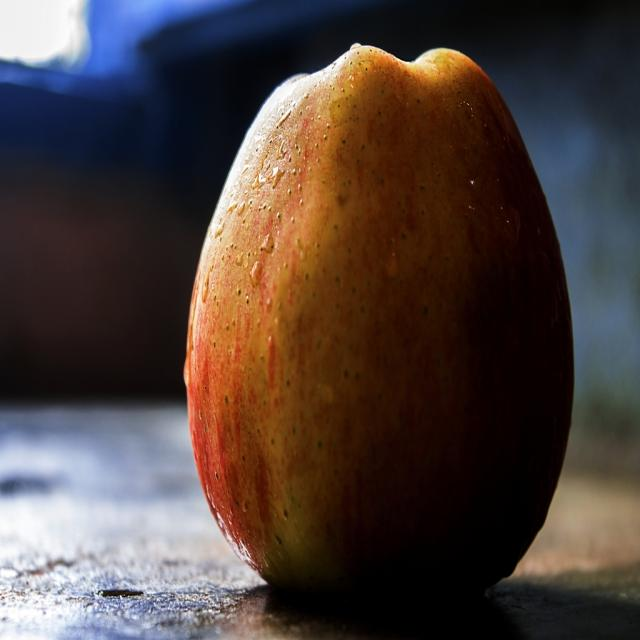Healty Apple: (189, 38, 584, 639)
